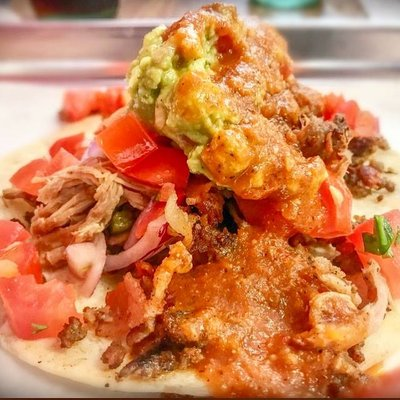sandwich: (1, 1, 400, 391)
